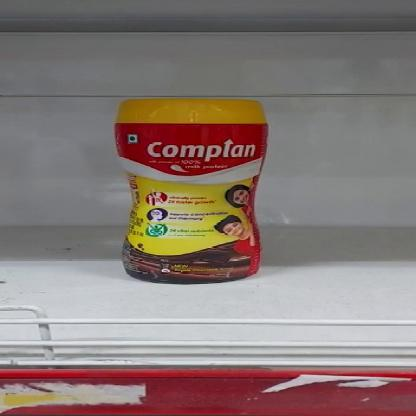Complan Royal Chocolate: (115, 96, 271, 284)
